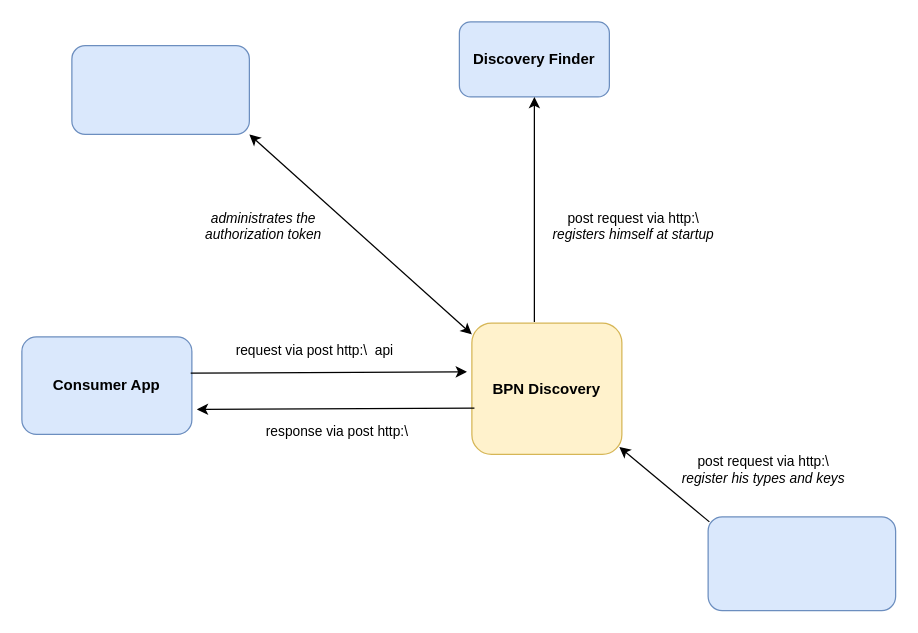
Some shapes in this 918 by 633 pixel diagram are drawn without their labels. The centre of each missing label's shape, as x and y in pixels:
"Data Provider" belongs at pixel 801 563.
"Keycloak" belongs at pixel 160 89.
